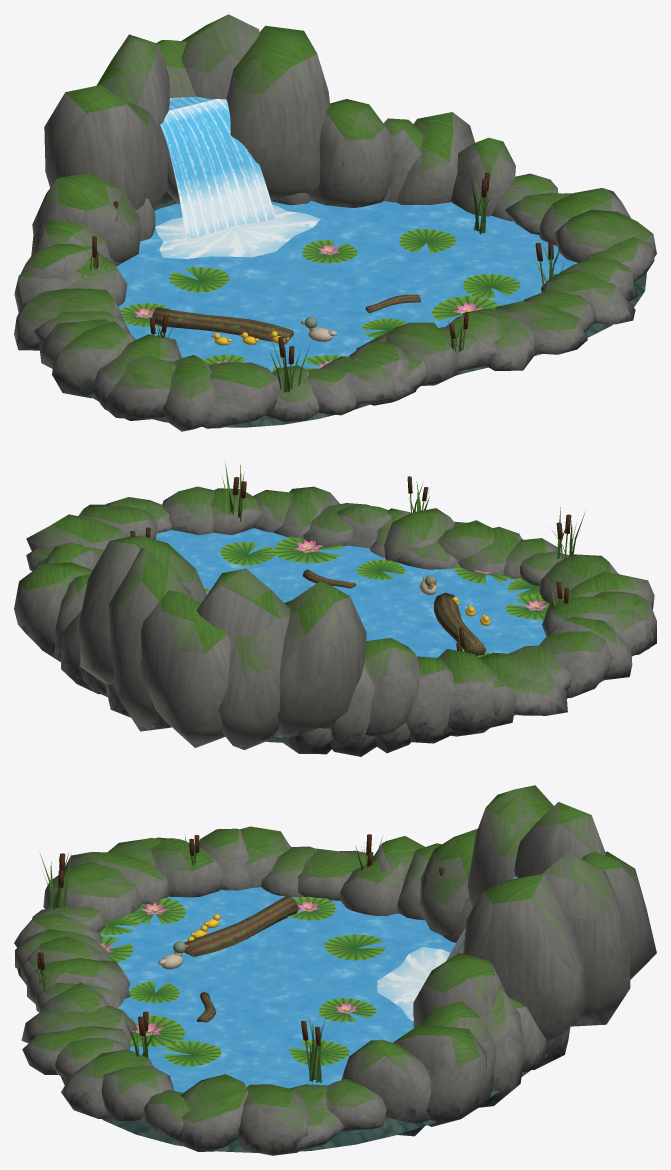
The model's file is WaterfallBoulderPond.fbx.
The picture shows the model from 3 angles, top to bottom: view 1: azimuth 30°, elevation 25°; view 2: azimuth 150°, elevation 25°; view 3: azimuth 270°, elevation 25°; orthographic projection. The views are drawn at different scales.
Parts seen in each view (by area): view 1: Pond_Rocks.001, Pond_Water.001, Pond_Waterfall, Pond_Flora.001, Pond_Bed.001; view 2: Pond_Rocks.001, Pond_Water.001, Pond_Flora.001; view 3: Pond_Rocks.001, Pond_Water.001, Pond_Flora.001, Pond_Waterfall, Pond_Bed.001.
Boxes of the visible parts, left/top/right/bottom form: Pond_Rocks.001: left=14, top=14, right=656, bottom=431; Pond_Water.001: left=116, top=200, right=577, bottom=372; Pond_Waterfall: left=155, top=96, right=320, bottom=258; Pond_Flora.001: left=81, top=155, right=564, bottom=392; Pond_Bed.001: left=88, top=200, right=646, bottom=427; Pond_Rocks.001: left=14, top=486, right=656, bottom=756; Pond_Water.001: left=155, top=528, right=546, bottom=657; Pond_Flora.001: left=127, top=463, right=585, bottom=657; Pond_Rocks.001: left=14, top=785, right=656, bottom=1155; Pond_Water.001: left=100, top=887, right=455, bottom=1092; Pond_Flora.001: left=33, top=834, right=444, bottom=1082; Pond_Waterfall: left=377, top=876, right=518, bottom=1020; Pond_Bed.001: left=60, top=1054, right=547, bottom=1152.
Bounding box in the file's own units: 33.32 × 10.72 × 30.16.
Materials: 5 (5 with a texture image).
